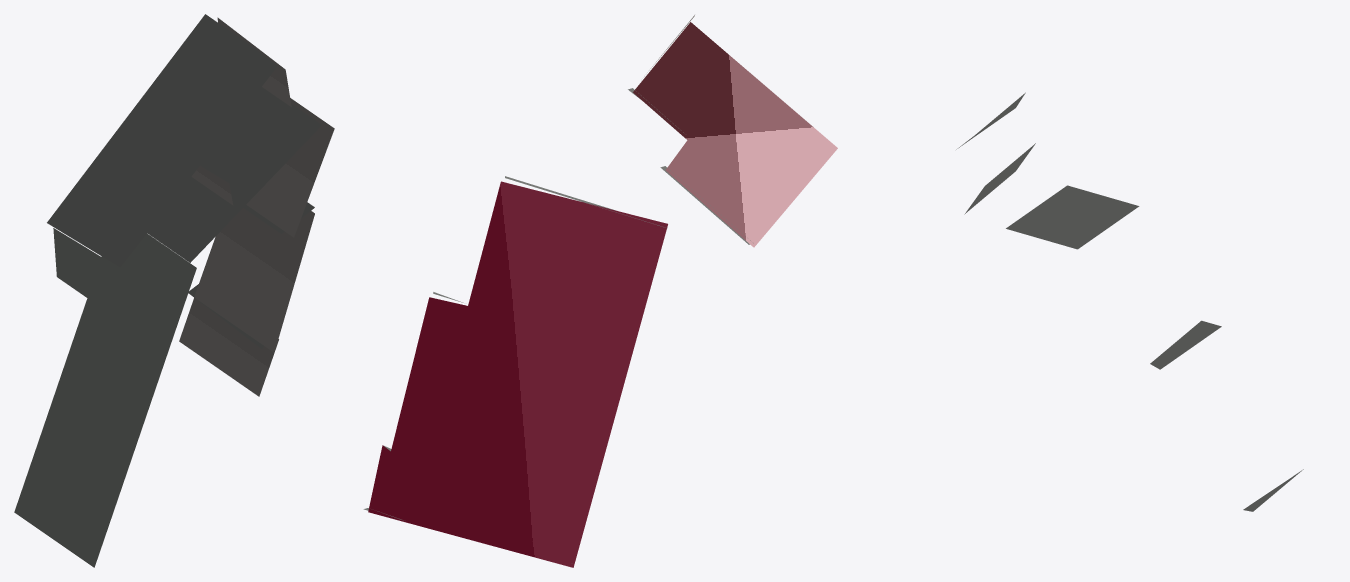
The model's file is tile_LOD3_r4_c0.glb.
3 views of the same model, side by side, from view 1: azimuth 30°, elevation 25°; view 2: azimuth 150°, elevation 25°; view 3: azimuth 270°, elevation 25° (orthographic). The views are drawn at different scales.
Bounding box in the file's own units: 18.75 × 27.5 × 22.5.
Materials: 5 (3 with a texture image).
